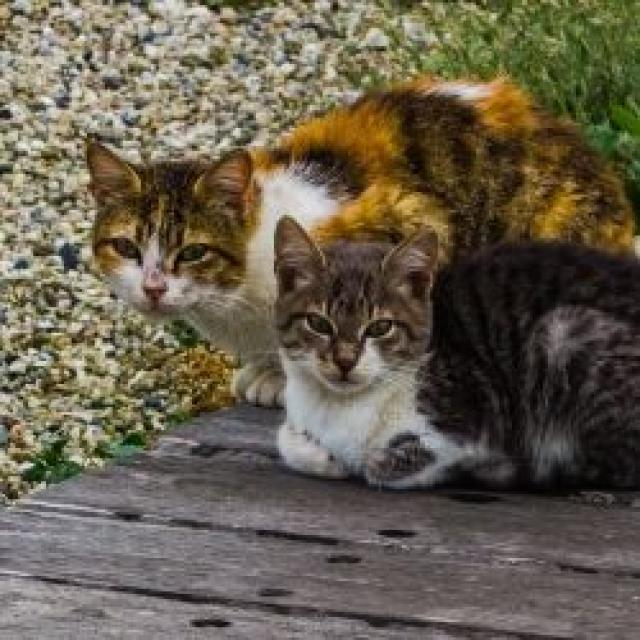cat: (91, 81, 632, 404), (278, 222, 640, 507)
